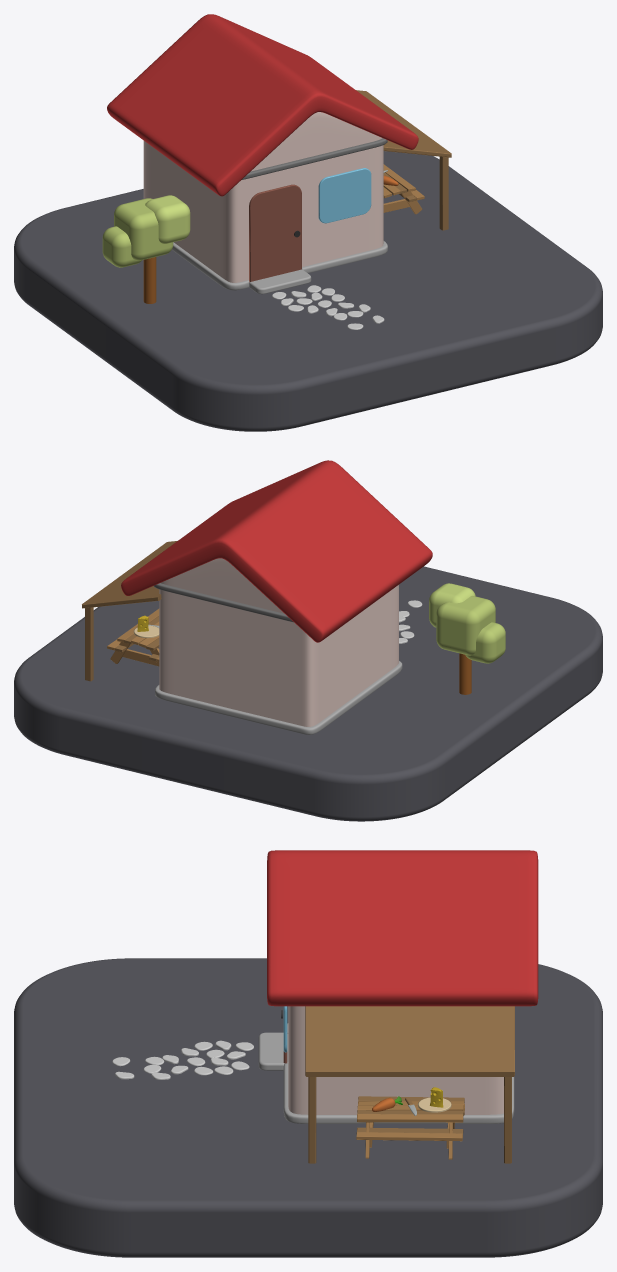
File: little_house.glb
The picture shows the model from 3 angles, top to bottom: view 1: azimuth 30°, elevation 25°; view 2: azimuth 150°, elevation 25°; view 3: azimuth 270°, elevation 25°; orthographic projection. The views are drawn at different scales.
Visible parts, largest first — view 1: Rectangle, Cube 2, Cube, Rectangle 2, Cube 5 (×2), Cube 6 (×2), Rectangle 3, Shape, Cube 7, porog, Cube 4, Cylinder; view 2: Rectangle, Cube 2, Cube, Cube 5 (×2), Cube 6 (×2), Shape, Cube 7, object 59, Cylinder; view 3: Rectangle, Cube 2, Shape, Cube, Cube 5, porog, Cube 7, Cube 8, Cube 4, object 59.
Boxes of the visible parts, box(x1,y1,x2,y2) form: Rectangle: box(14, 151, 602, 431); Cube 2: box(107, 14, 418, 196); Cube: box(143, 112, 383, 282); Rectangle 2: box(249, 184, 301, 282); Cube 5 (×2): box(114, 198, 387, 290); Cube 6 (×2): box(145, 138, 387, 243); Rectangle 3: box(318, 168, 371, 223); Shape: box(356, 90, 451, 157); Cube 7: box(102, 226, 141, 267); porog: box(249, 269, 311, 294); Cube 4: box(439, 156, 448, 230); Cylinder: box(143, 257, 156, 303); Rectangle: box(14, 566, 602, 821); Cube 2: box(121, 460, 432, 642); Cube: box(159, 558, 398, 726); Cube 5 (×2): box(155, 596, 495, 734); Cube 6 (×2): box(154, 583, 475, 627); Shape: box(82, 541, 176, 608); Cube 7: box(465, 622, 505, 663); object 59: box(85, 607, 93, 681); Cylinder: box(459, 653, 471, 694); Rectangle: box(14, 958, 602, 1257); Cube 2: box(267, 850, 538, 1006); Shape: box(305, 1006, 514, 1076); Cube: box(288, 1006, 503, 1114); Cube 5: box(283, 1023, 514, 1123); porog: box(258, 1032, 288, 1070); Cube 7: box(357, 1114, 463, 1122); Cube 8: box(356, 1132, 462, 1141); Cube 4: box(308, 1077, 316, 1163); object 59: box(504, 1077, 511, 1163).
Size of what is drawn, in the model's own units: 5 by 2.63 by 5.
